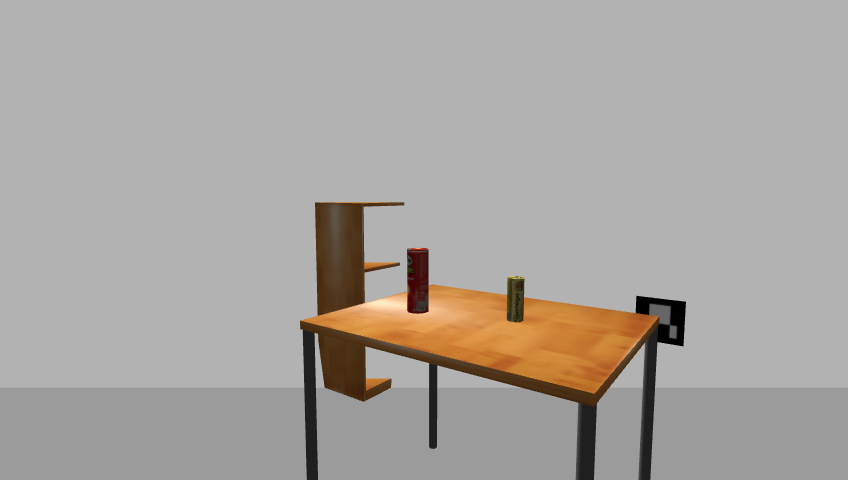aruco marker: (632, 294, 690, 348)
biscuits pack: (506, 276, 525, 324)
bookshelf: (310, 198, 408, 406)
dinner table: (295, 286, 669, 480)
pringles can: (405, 247, 430, 316)
